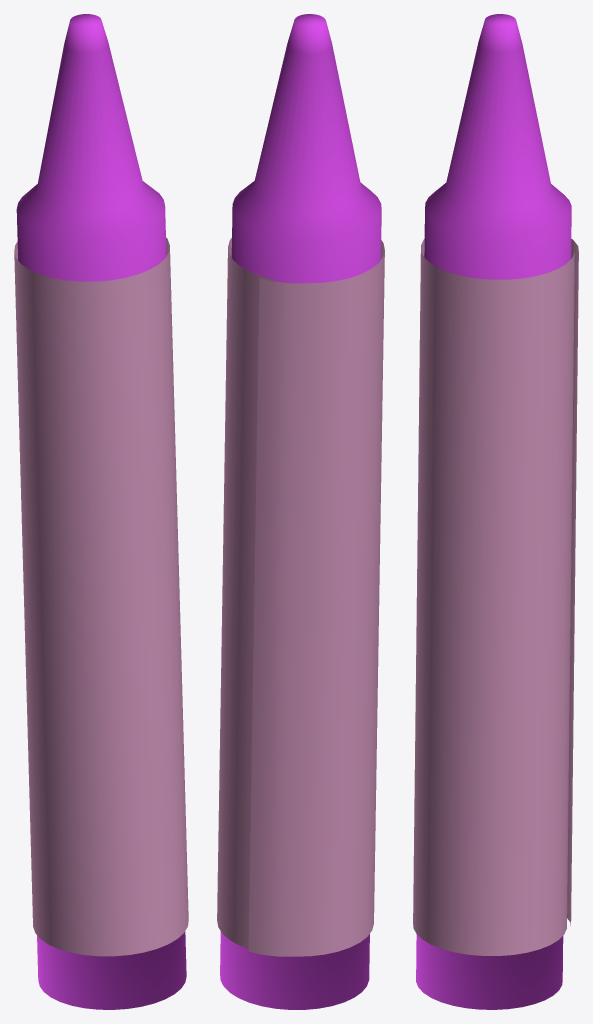
3 views of the same model, side by side, from view 1: azimuth 30°, elevation 25°; view 2: azimuth 150°, elevation 25°; view 3: azimuth 270°, elevation 25° (orthographic).
Visible parts, largest first — view 1: CarnationPink_Crayon; view 2: CarnationPink_Crayon; view 3: CarnationPink_Crayon.
Part boxes in pixels (x1,y1,x2,y2): CarnationPink_Crayon: (14,14,188,1009); CarnationPink_Crayon: (217,14,384,1009); CarnationPink_Crayon: (413,14,578,1009).
Size of the model in its own units: 0.0863 by 0.5307 by 0.0838.
